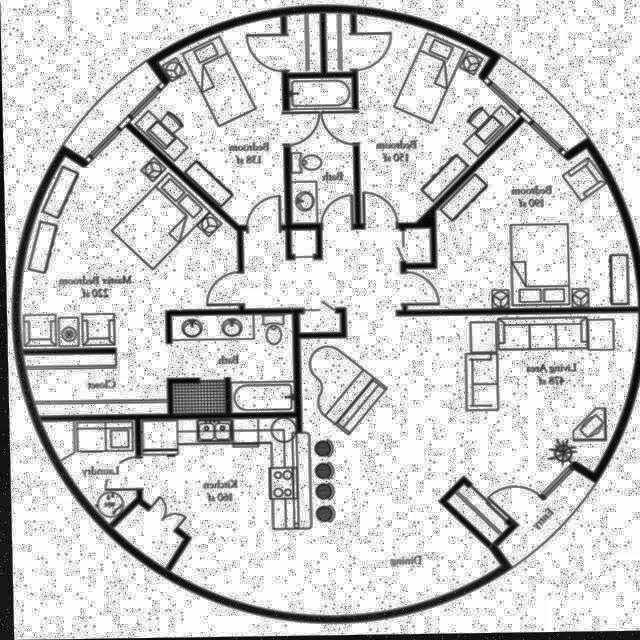room: (14, 127, 238, 348), (404, 124, 637, 311), (356, 14, 520, 224), (130, 17, 284, 227), (139, 419, 297, 618), (21, 315, 292, 415), (241, 227, 432, 335), (494, 468, 597, 571), (40, 419, 135, 525), (289, 114, 354, 225), (110, 502, 182, 569), (288, 78, 352, 111), (287, 14, 321, 74), (326, 13, 352, 73)
